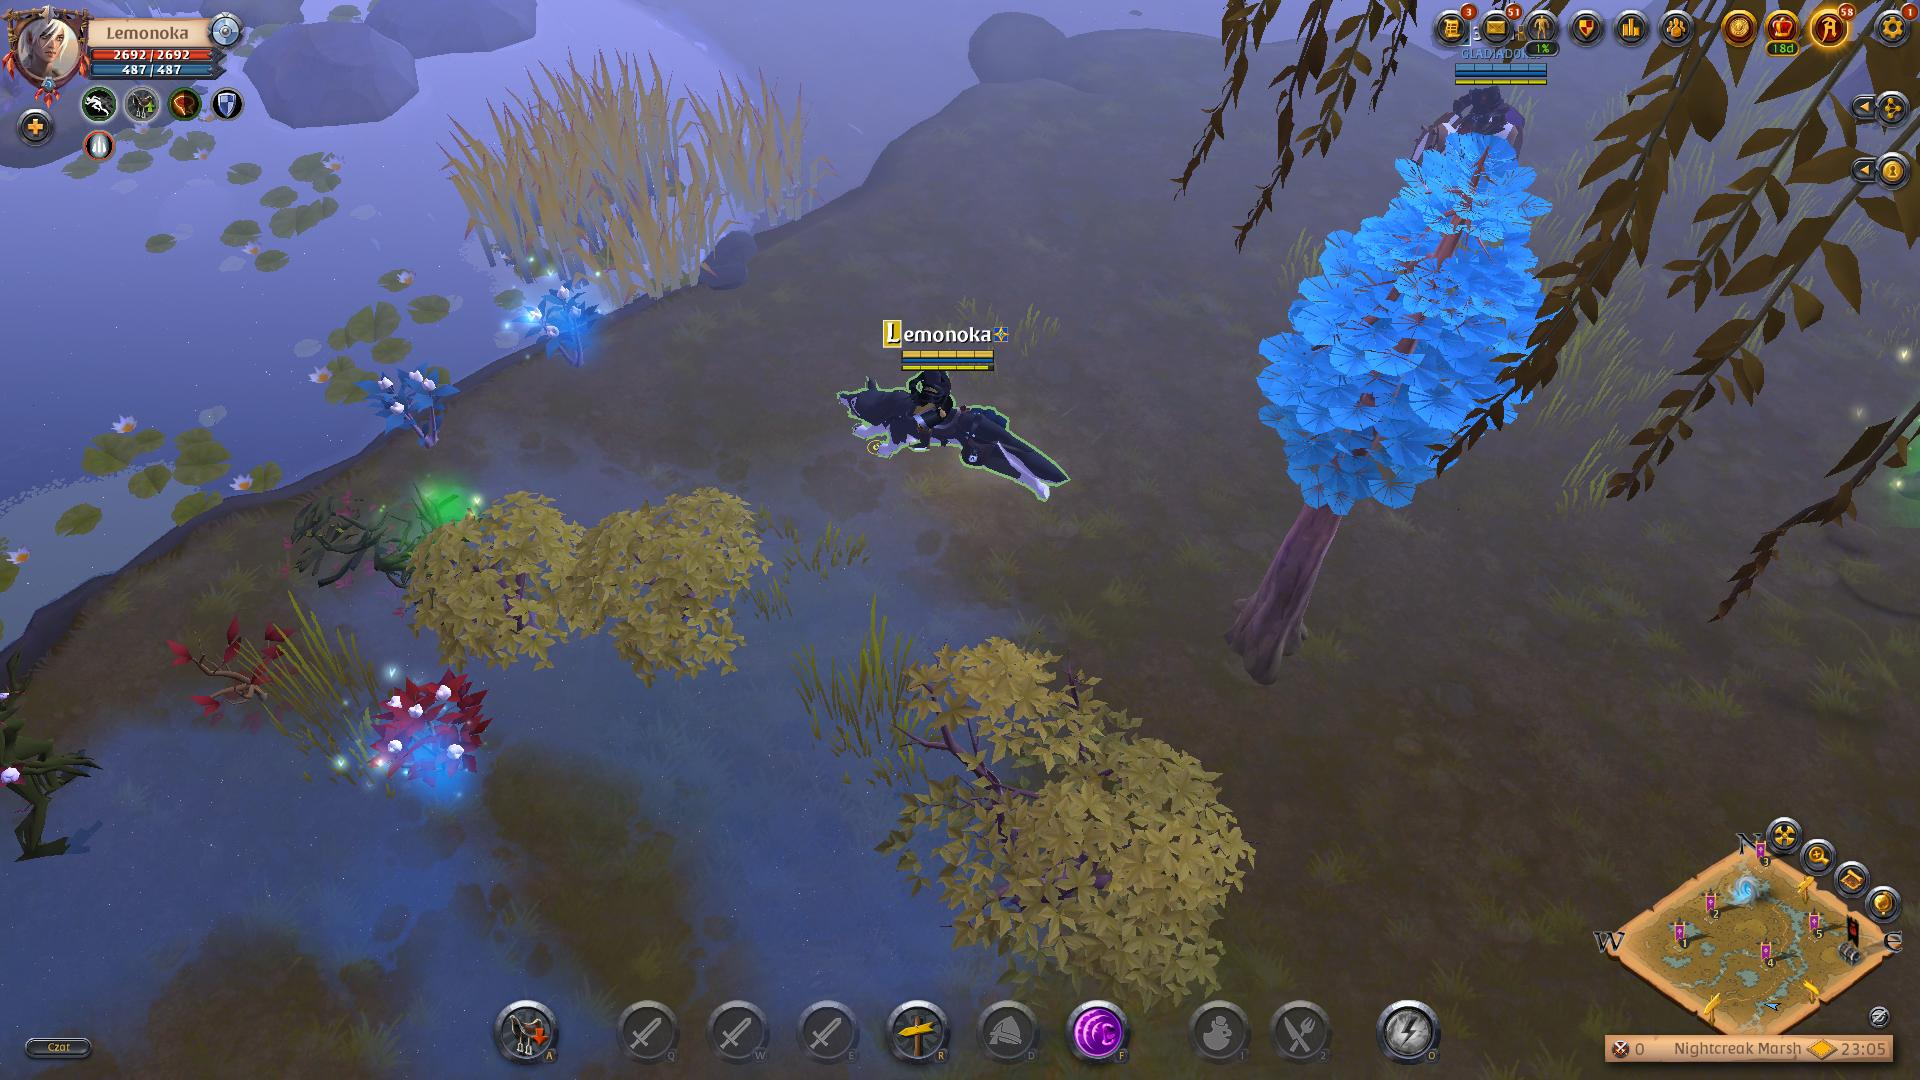fiber tier 4: (367, 361, 462, 452), (512, 282, 607, 361)
fiber tier 5: (365, 670, 492, 794)
wood tier 4: (1251, 135, 1556, 516)
